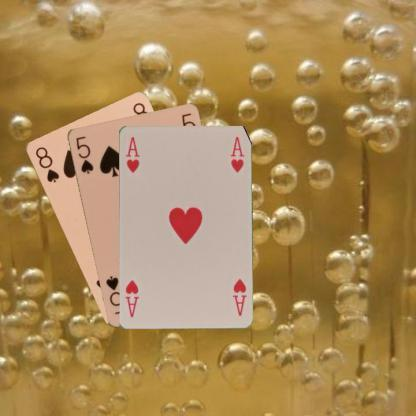5s: (73, 133, 95, 175)
8s: (32, 144, 60, 184)
Ah: (230, 275, 248, 318), (122, 133, 140, 174)
